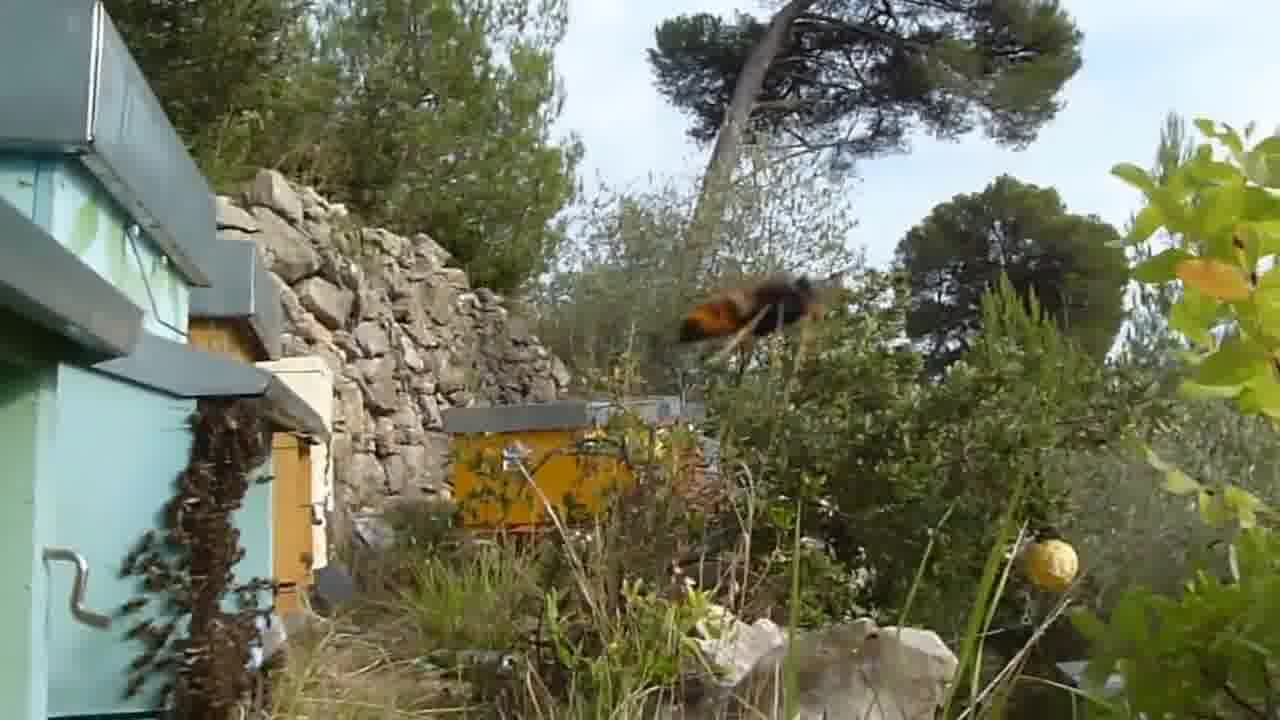bee: (124, 585, 272, 694), (146, 493, 247, 582), (183, 408, 261, 483)
hornet: (676, 265, 834, 350)
